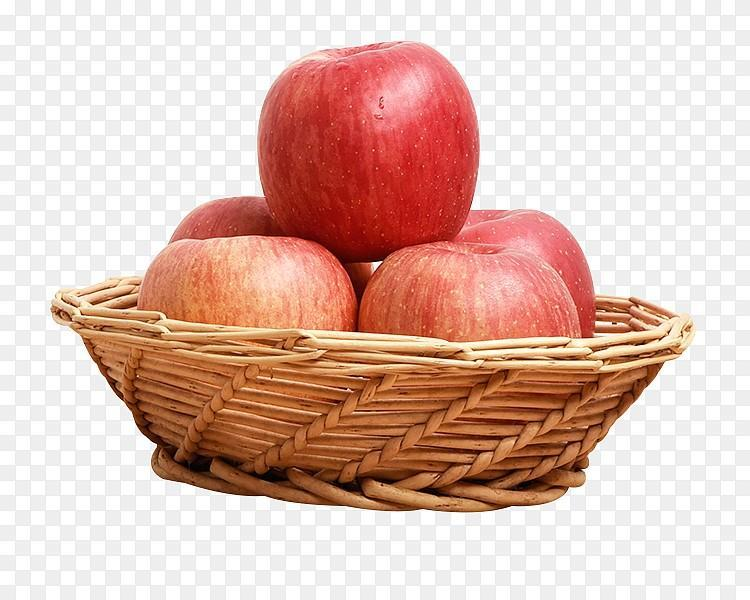apple: (250, 42, 477, 265), (352, 241, 585, 342), (138, 231, 355, 333), (460, 204, 596, 337)
